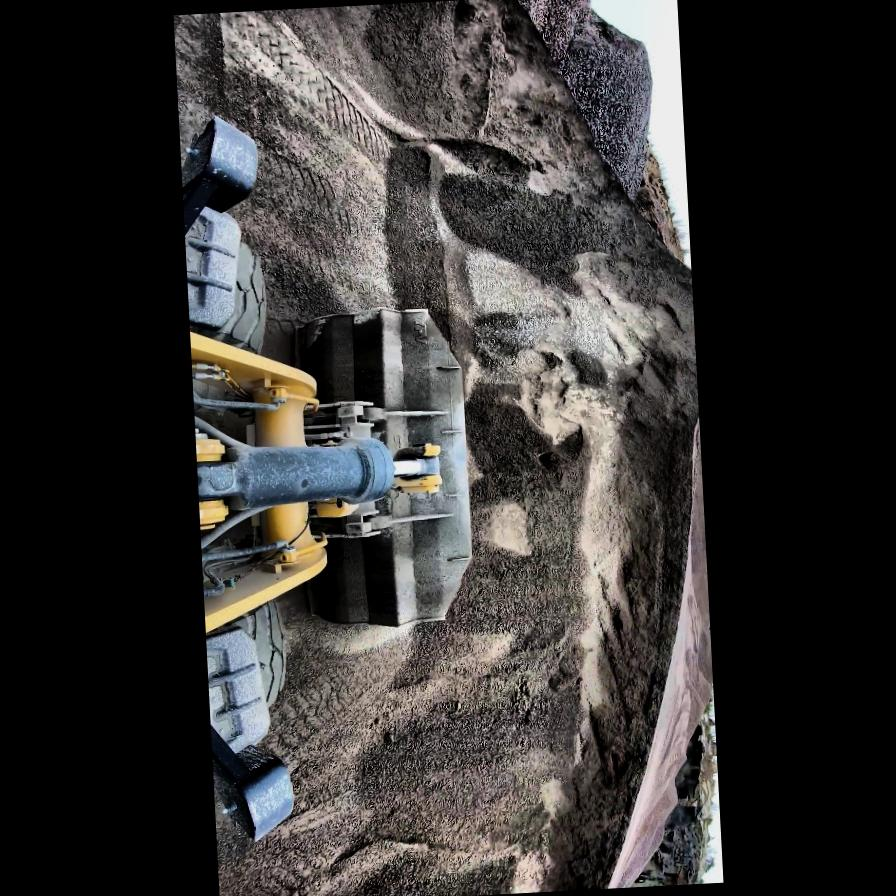anchor: (389, 442, 443, 494)
pile of gravel: (299, 0, 722, 896), (484, 0, 661, 205)
